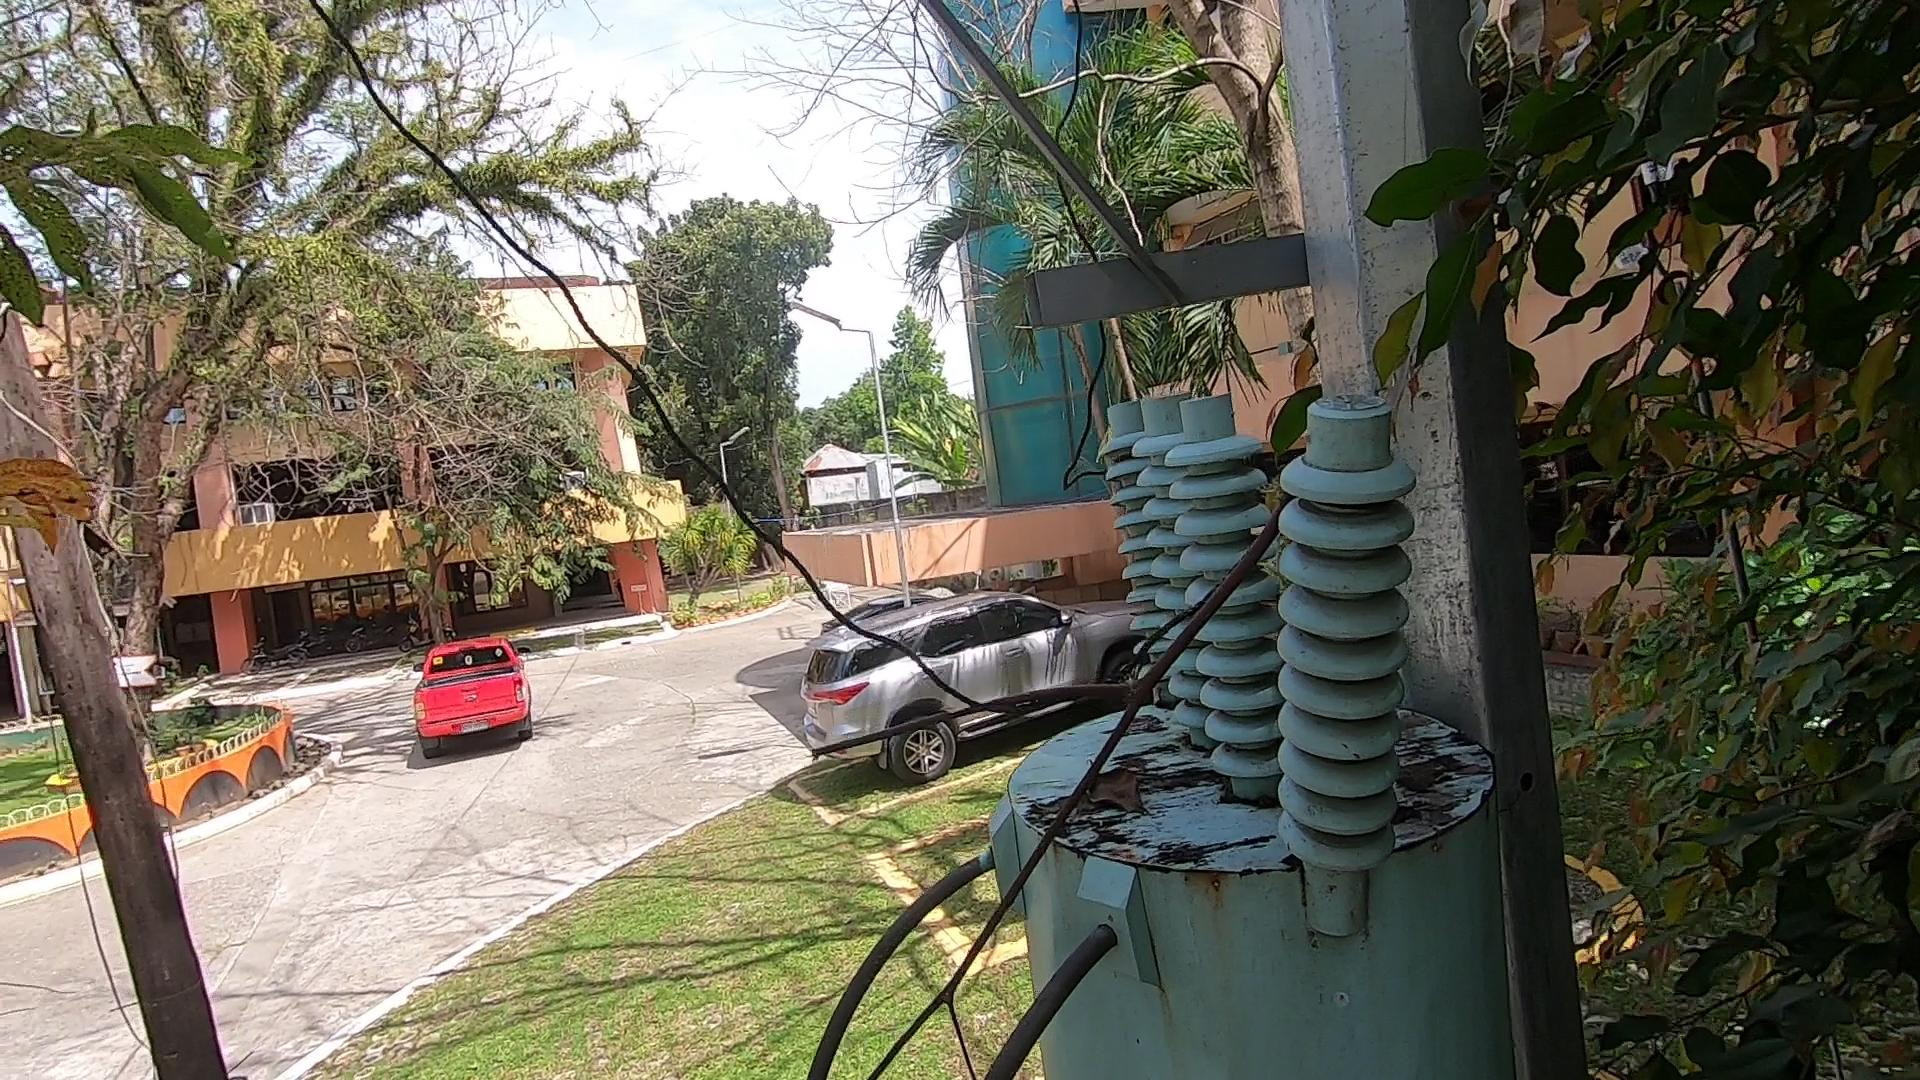leaf: (1069, 748, 1160, 822)
tree branch: (799, 418, 1352, 1080)
